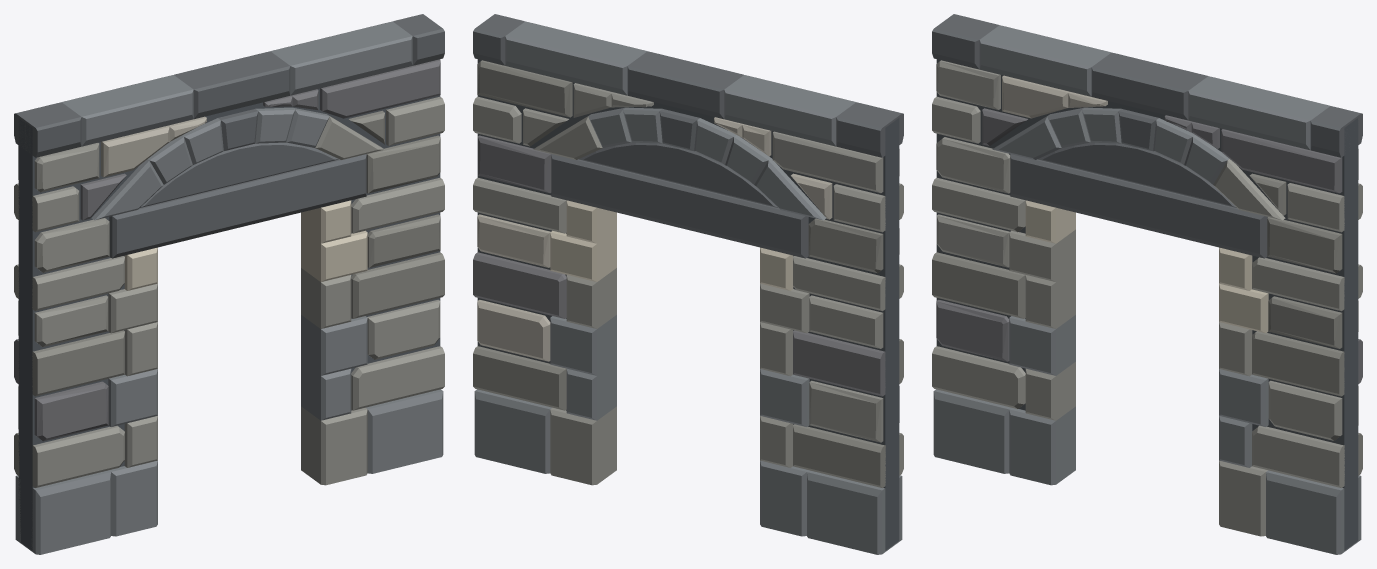
The model's file is SM_LPD_Struct_WallDoorway_01.fbx.
3 views of the same model, side by side, from view 1: azimuth 30°, elevation 25°; view 2: azimuth 150°, elevation 25°; view 3: azimuth 330°, elevation 25° (orthographic).
Visible parts, largest first — view 1: SM_LPD_Struct_WallDoorway_01; view 2: SM_LPD_Struct_WallDoorway_01; view 3: SM_LPD_Struct_WallDoorway_01.
Boxes of the visible parts, x1,y1,x2,y2 form: SM_LPD_Struct_WallDoorway_01: (14,14,444,554); SM_LPD_Struct_WallDoorway_01: (473,14,903,554); SM_LPD_Struct_WallDoorway_01: (932,14,1362,554).
Size of the model in its own units: 4 by 4 by 0.4.
